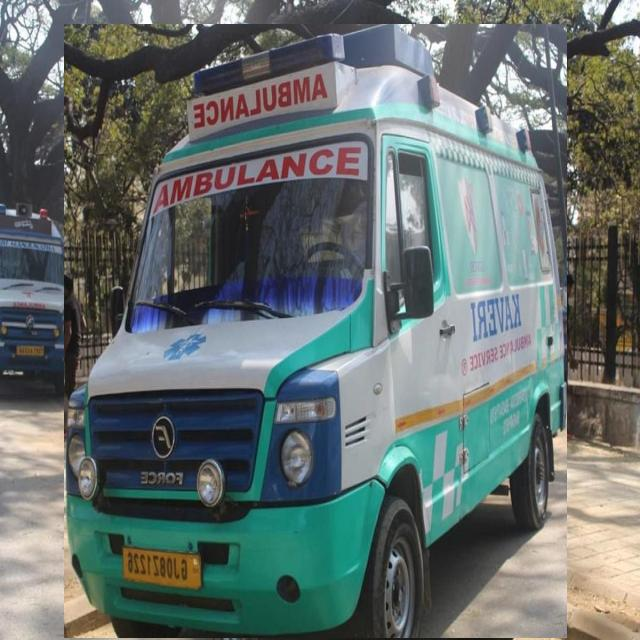emergency: (65, 25, 567, 638)
